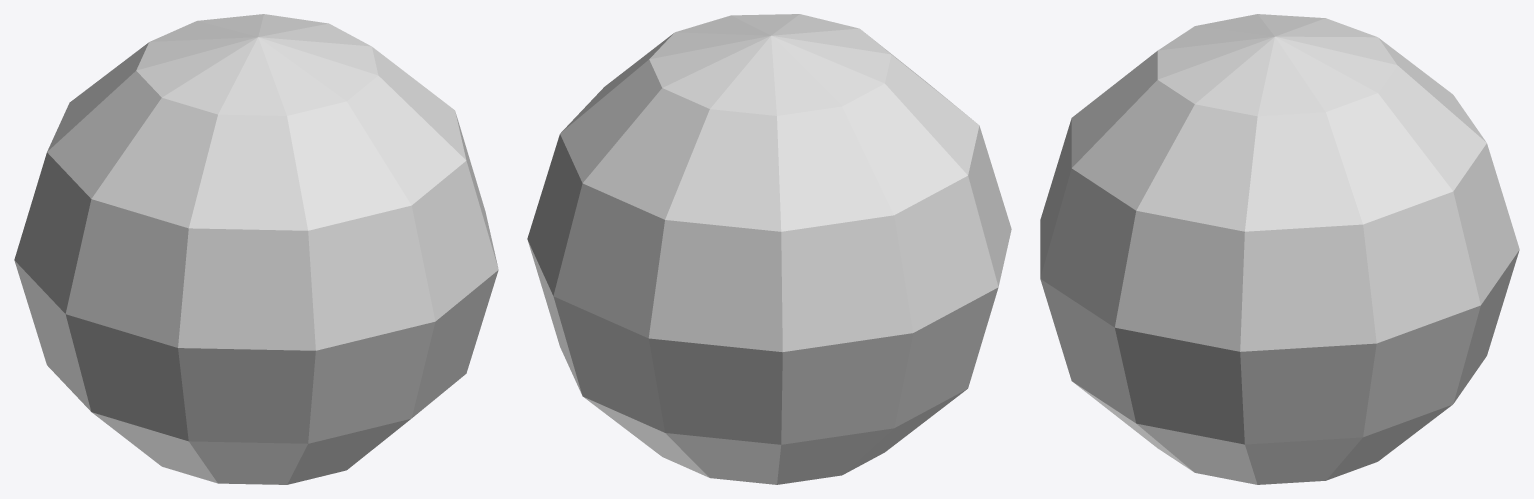
File: bal.fbx
The picture shows the model from 3 angles, left to right: view 1: azimuth 30°, elevation 25°; view 2: azimuth 150°, elevation 25°; view 3: azimuth 270°, elevation 25°; orthographic projection.
Parts seen in each view (by area): view 1: sphere; view 2: sphere; view 3: sphere.
Part boxes in pixels (x1=…): sphere: x1=14, y1=14, x2=498, y2=484; sphere: x1=527, y1=14, x2=1011, y2=484; sphere: x1=1040, y1=14, x2=1519, y2=484.
Size of the model in its own units: 123 by 119 by 121.
Materials: 1 (1 with a texture image).
